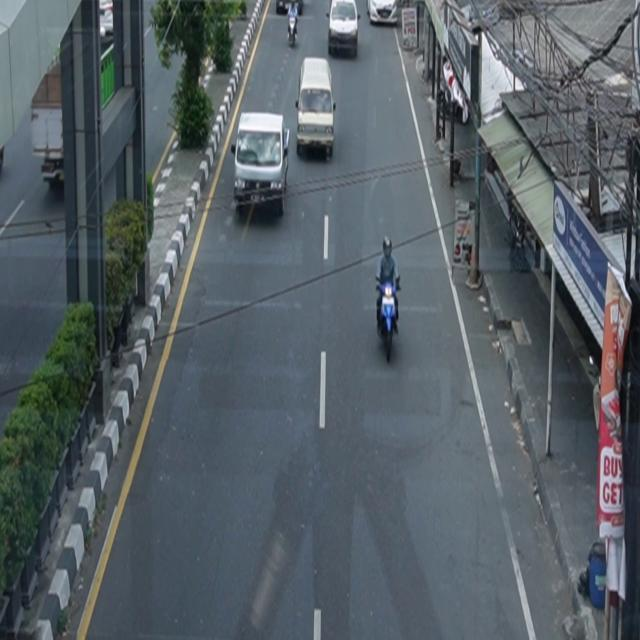car: (232, 112, 291, 217), (296, 57, 337, 162), (327, 1, 361, 58), (367, 1, 398, 26)
